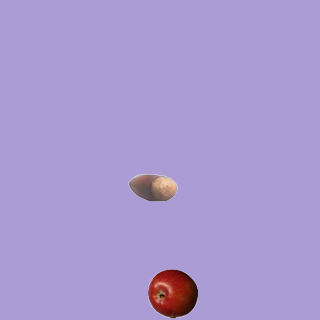Apple Braeburn: (147, 268, 197, 318)
Hazelnut: (127, 162, 177, 212)
